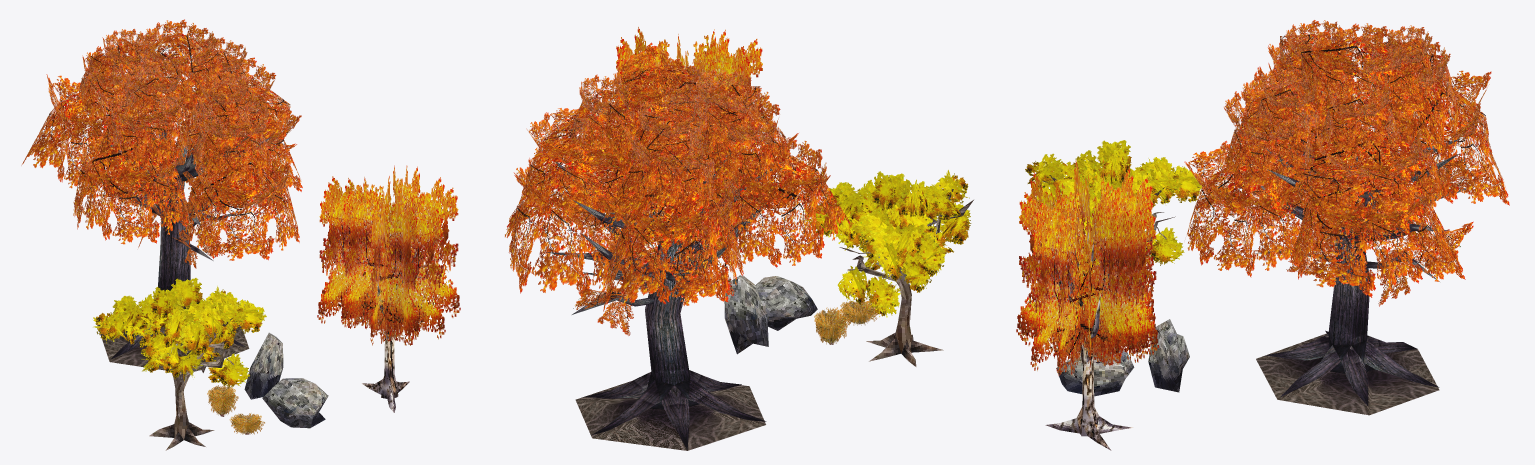
The model's file is psx_autumn_trees_-_rocks_-_bushes.glb.
3 views of the same model, side by side, from view 1: azimuth 30°, elevation 25°; view 2: azimuth 150°, elevation 25°; view 3: azimuth 270°, elevation 25° (orthographic). The views are drawn at different scales.
Parts seen in each view (by area): view 1: BIG TREE.001_6, BIRCHTREE_5, SMALL TREE_4, ROCK_0, TALLER ROCK_1, bushes type 1_2, bushes type 2_3; view 2: BIG TREE.001_6, SMALL TREE_4, BIRCHTREE_5, TALLER ROCK_1, ROCK_0, bushes type 1_2, bushes type 2_3; view 3: BIG TREE.001_6, BIRCHTREE_5, SMALL TREE_4, TALLER ROCK_1, ROCK_0.
Part boxes in pixels (left/top/right/bottom): BIG TREE.001_6: left=21, top=19, right=302, bottom=372; BIRCHTREE_5: left=317, top=165, right=460, bottom=412; SMALL TREE_4: left=93, top=278, right=266, bottom=450; ROCK_0: left=262, top=378, right=328, bottom=428; TALLER ROCK_1: left=244, top=332, right=283, bottom=399; bushes type 1_2: left=207, top=385, right=238, bottom=416; bushes type 2_3: left=229, top=413, right=264, bottom=434; BIG TREE.001_6: left=505, top=42, right=850, bottom=450; SMALL TREE_4: left=803, top=170, right=973, bottom=366; BIRCHTREE_5: left=615, top=27, right=765, bottom=289; TALLER ROCK_1: left=724, top=275, right=768, bottom=354; ROCK_0: left=756, top=276, right=817, bottom=330; bushes type 1_2: left=814, top=307, right=849, bottom=344; bushes type 2_3: left=840, top=299, right=877, bottom=325; BIG TREE.001_6: left=1184, top=20, right=1509, bottom=415; BIRCHTREE_5: left=1016, top=159, right=1158, bottom=450; SMALL TREE_4: left=1025, top=140, right=1202, bottom=265; TALLER ROCK_1: left=1148, top=319, right=1189, bottom=392; ROCK_0: left=1056, top=348, right=1134, bottom=396.
Size of the model in its own units: 28.44 by 26.44 by 33.93.
5 materials, 5 textured.
